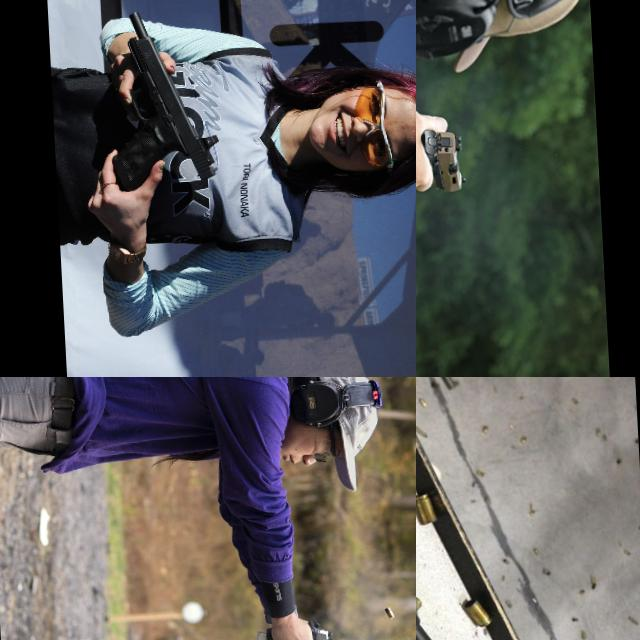handgun: (416, 377, 640, 640), (101, 7, 223, 200), (419, 126, 468, 197), (292, 615, 344, 640)
